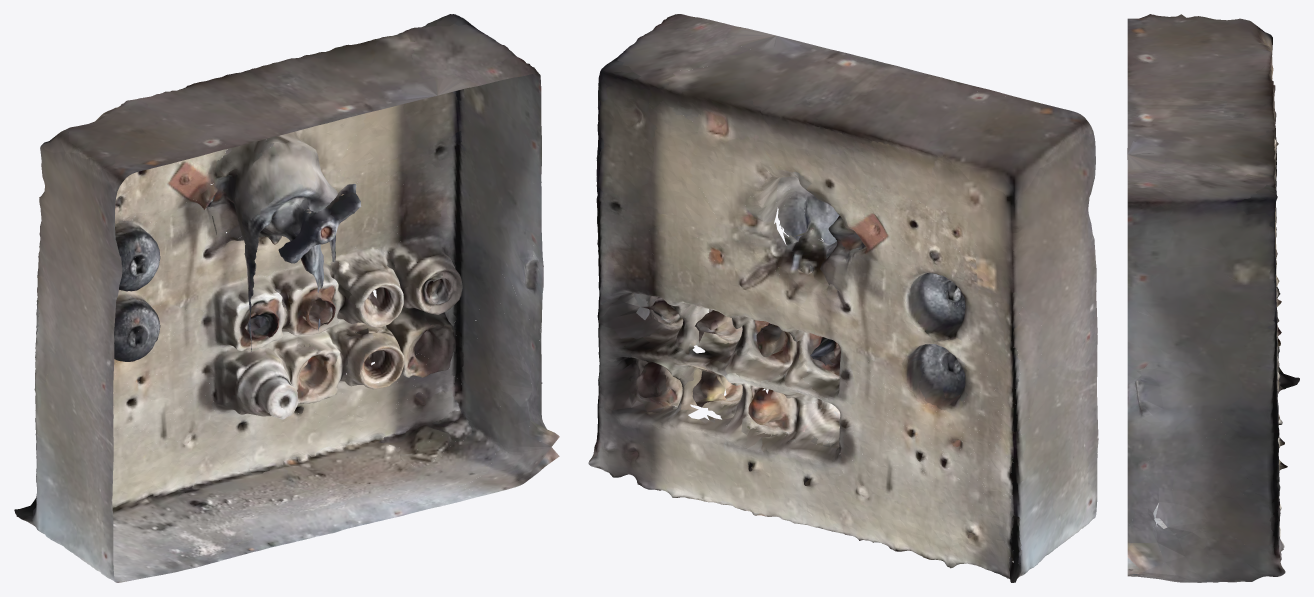
Rendered from fusebox.glb.
The picture shows the model from 3 angles, left to right: view 1: azimuth 30°, elevation 25°; view 2: azimuth 150°, elevation 25°; view 3: azimuth 270°, elevation 25°; orthographic projection. The views are drawn at different scales.
Visible parts, largest first — view 1: mesh_main_0 (×2); view 2: mesh_main_0 (×2); view 3: mesh_main_0 (×2).
Part boxes in pixels (x1,y1,x2,y2): mesh_main_0 (×2): [14, 14, 559, 582]; mesh_main_0 (×2): [588, 14, 1098, 582]; mesh_main_0 (×2): [1127, 14, 1299, 582].
Size of the model in its own units: 0.4326 by 0.378 by 0.153.
1 material, 1 textured.
